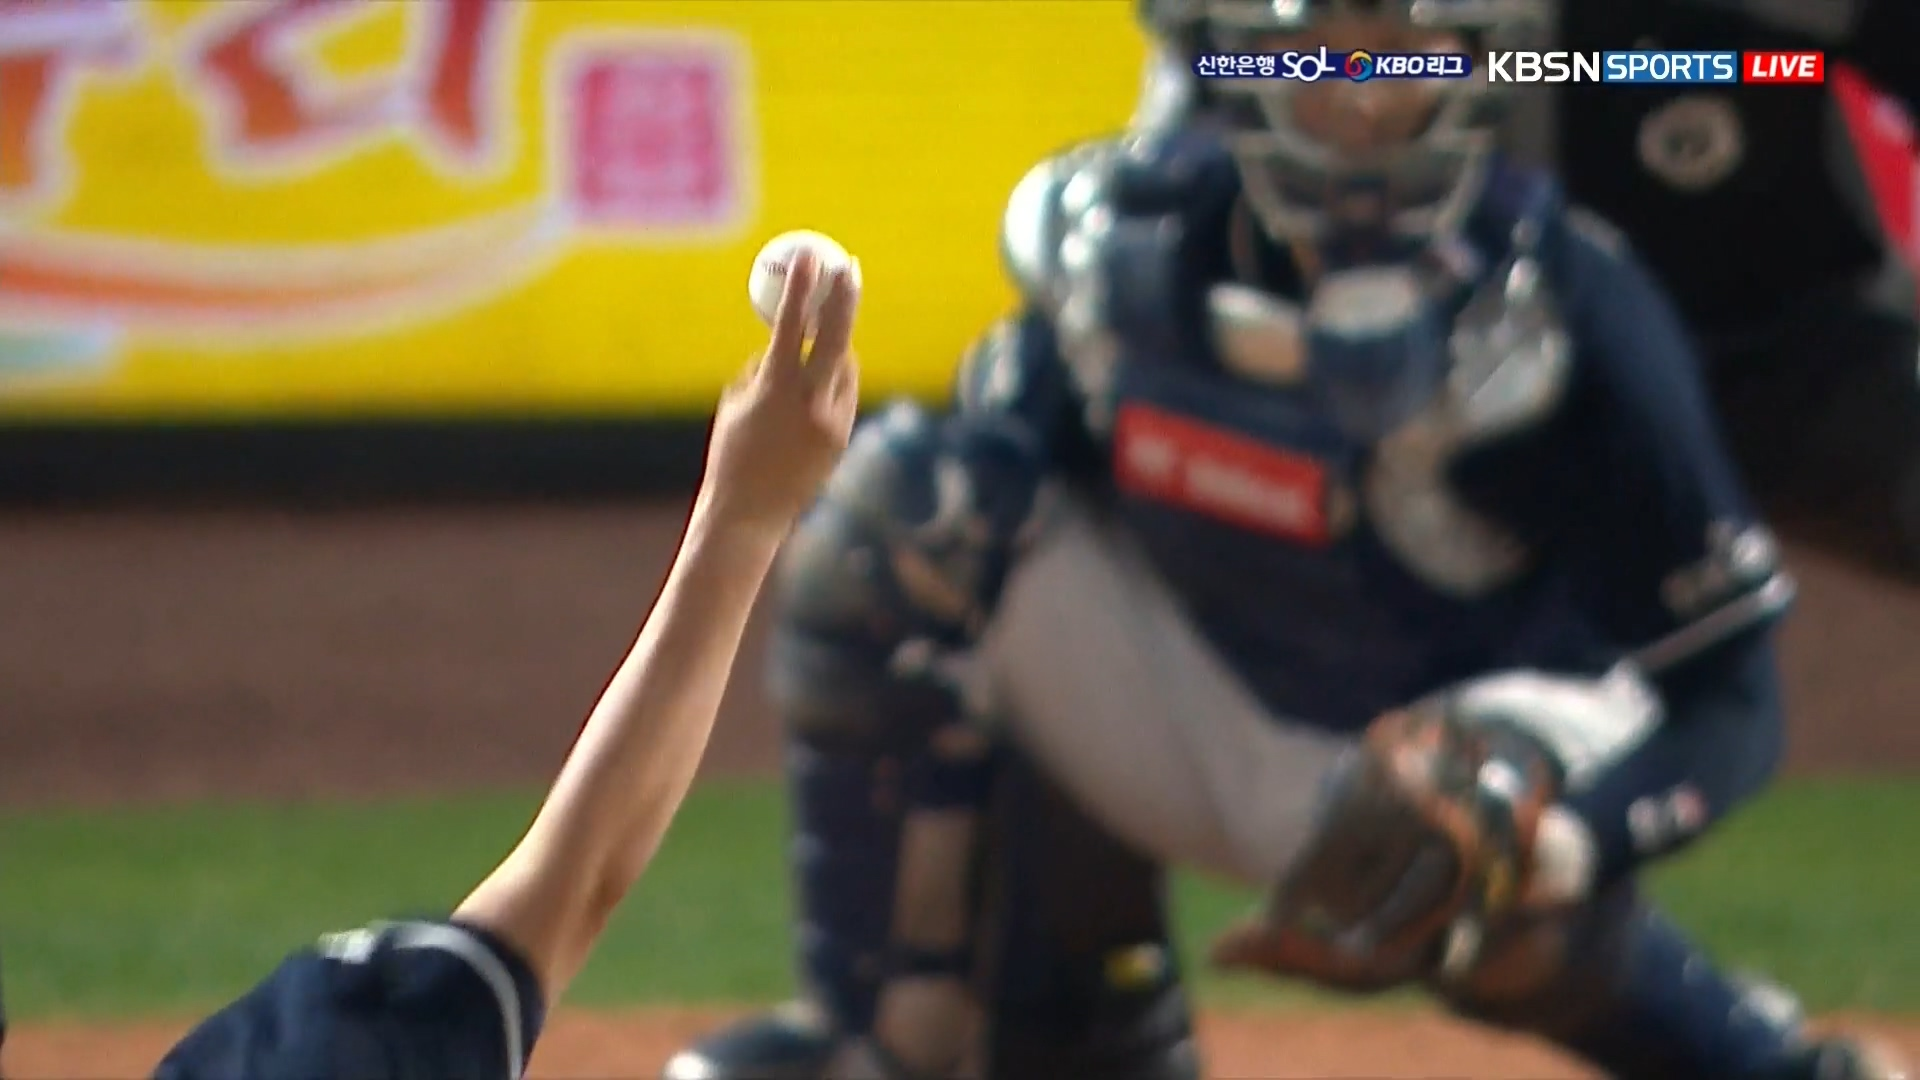zoomin_hand: (553, 206, 887, 881)
